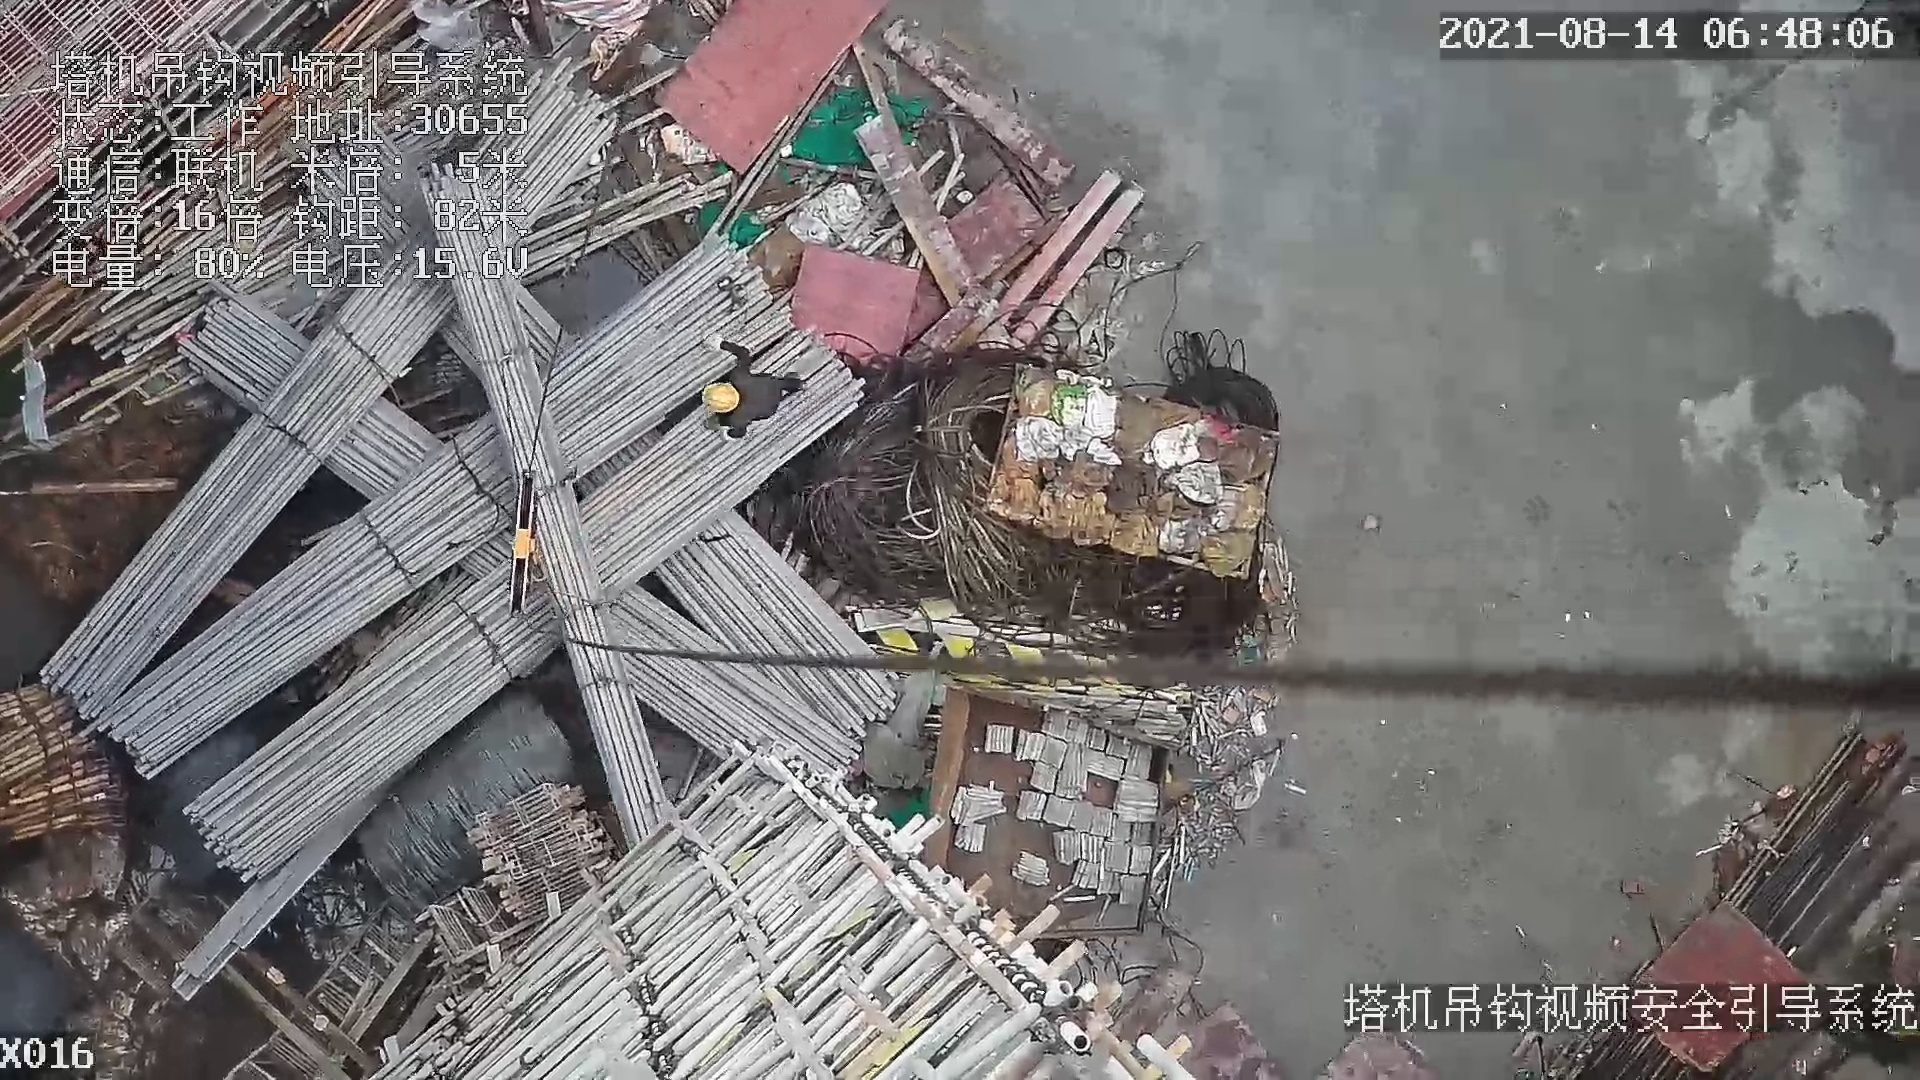board: (659, 1, 880, 180)
helmet: (701, 382, 738, 416)
hook: (503, 467, 547, 617)
person: (694, 328, 812, 450)
scaffold: (1, 687, 143, 839)
